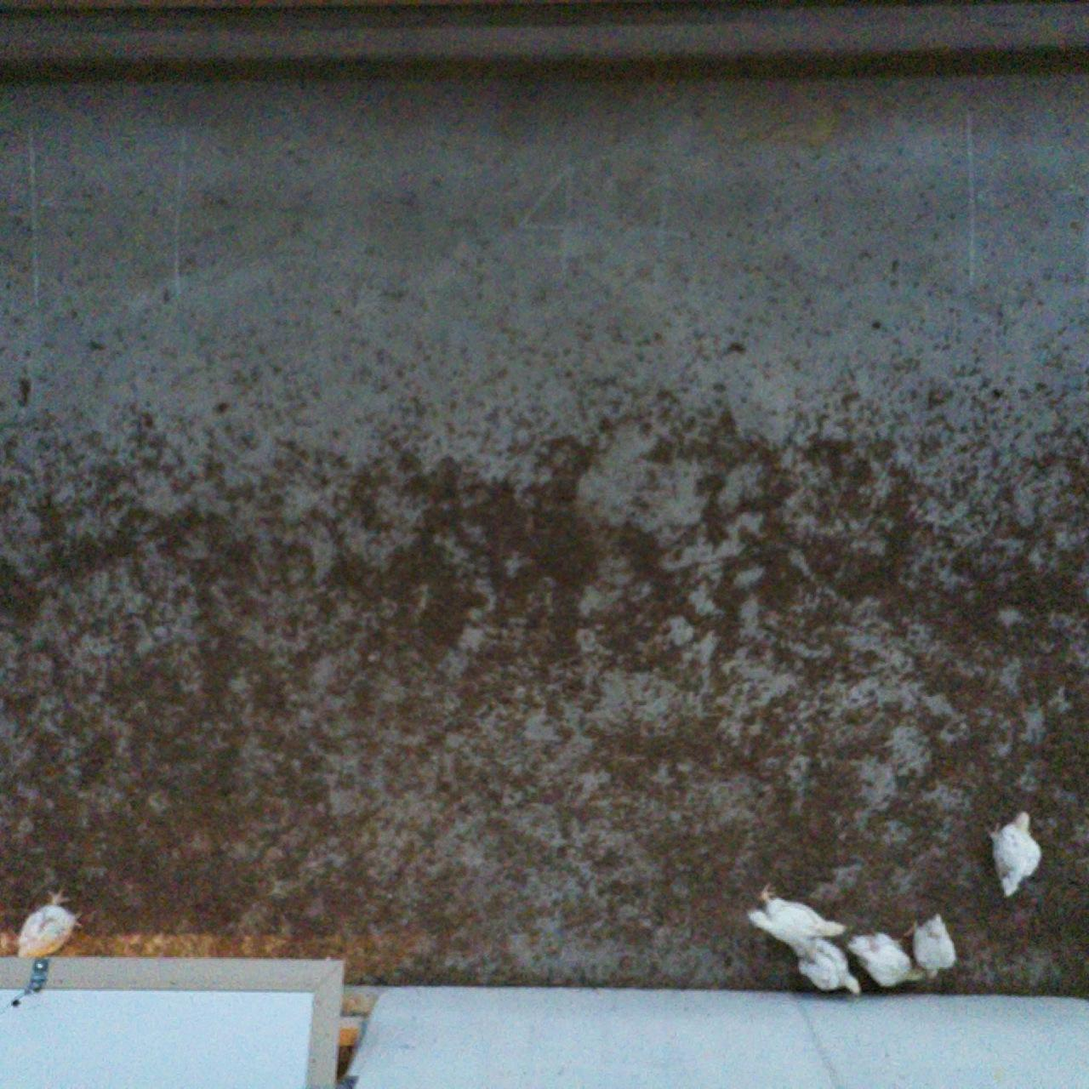chicken: (743, 883, 851, 959), (980, 802, 1048, 902), (12, 880, 88, 966), (846, 921, 934, 993), (789, 934, 865, 995), (904, 908, 956, 981)
